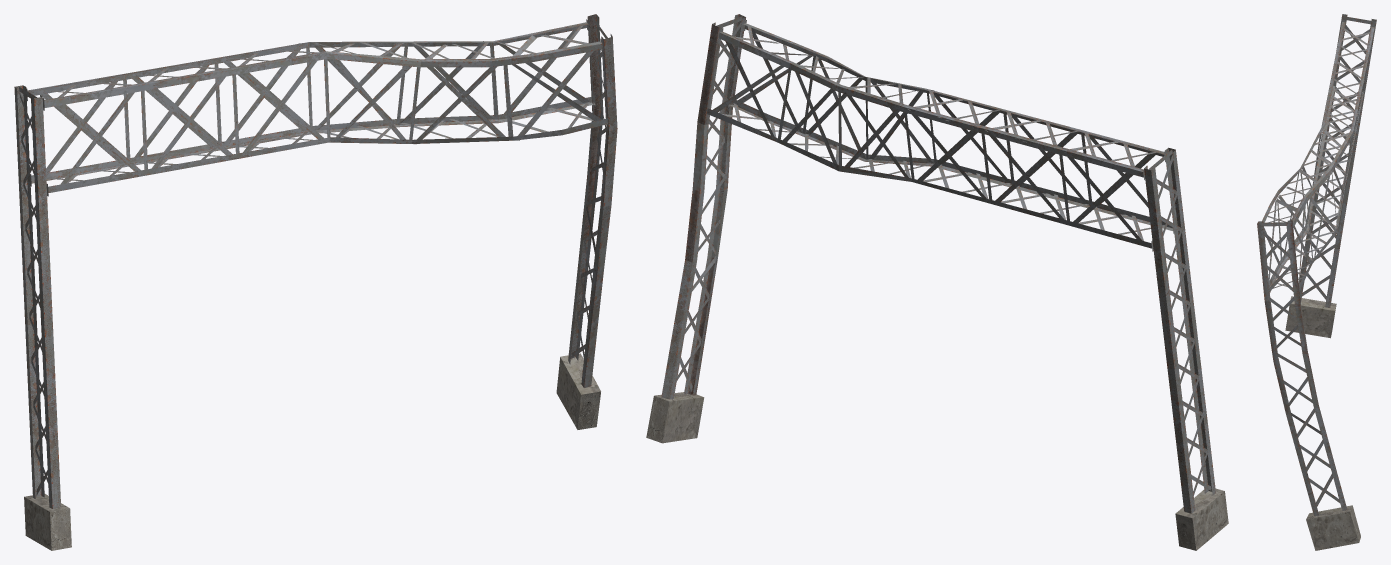
File: Street_el1B_LOD1.fbx
The picture shows the model from 3 angles, left to right: view 1: azimuth 30°, elevation 25°; view 2: azimuth 150°, elevation 25°; view 3: azimuth 270°, elevation 25°; orthographic projection. The views are drawn at different scales.
Visible parts, largest first — view 1: polySurface147; view 2: polySurface147; view 3: polySurface147.
Boxes of the visible parts, bbox=[...] form: polySurface147: bbox=[14, 14, 617, 550]; polySurface147: bbox=[646, 14, 1228, 550]; polySurface147: bbox=[1257, 14, 1376, 550].
Bounding box in the file's own units: 16.79 × 12.57 × 4.05.
